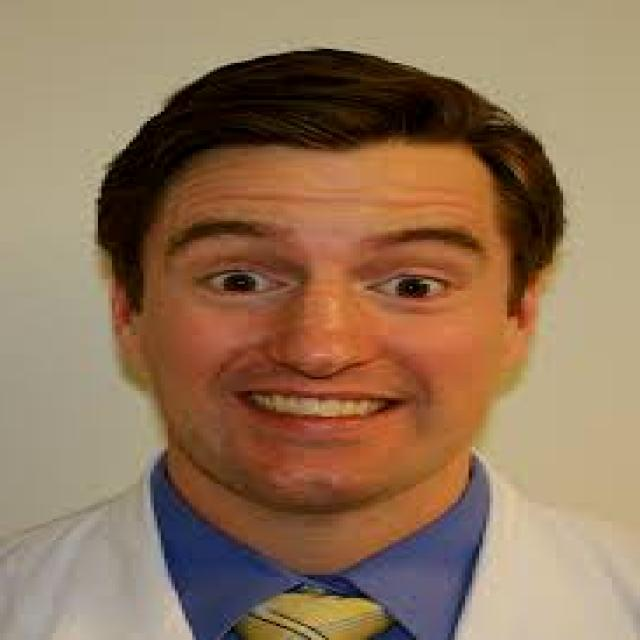normal_face: (110, 50, 540, 511)
